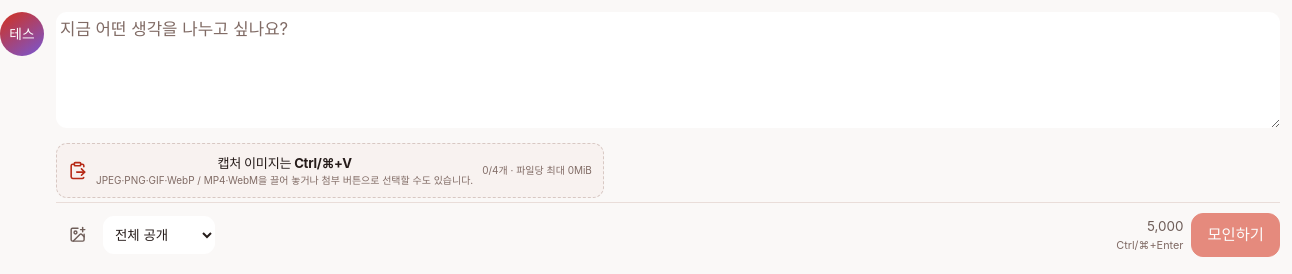
MoinComposer media upload › @ 입력으로 사용자를 찾아 키보드로 멘션을 삽입한다
This screenshot has width=1292, height=274.
Expected: the button named "이미지 또는 영상 첨부" is enabled, [56,213,100,257]
Type "안녕 @ali" into the text box named "모인 내용" at coordinates (668, 70), box [56,12,1280,128]
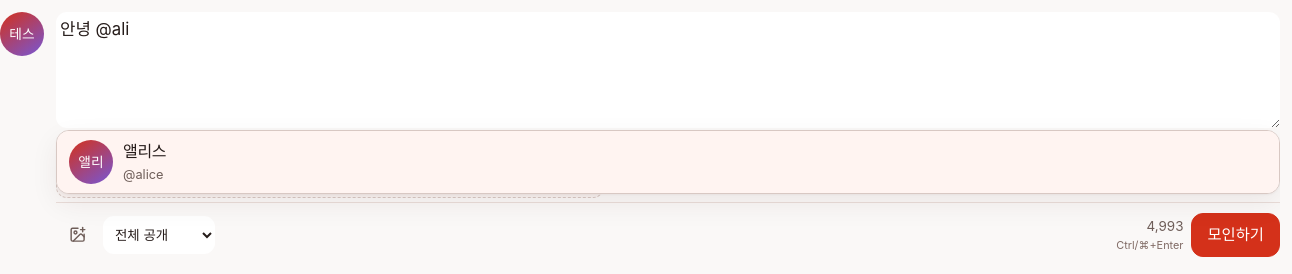
Expected: the option "앨리 앨리스 @alice" is shown, [57,131,1279,193]
Press Enter in the text box named "모인 내용", box [56,12,1280,128]
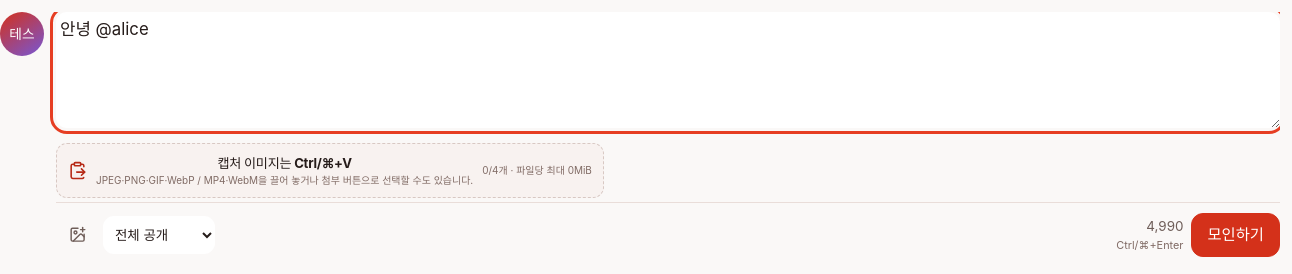
Expected: the text box named "모인 내용" holds "안녕 @alice ", [56,12,1280,128]
